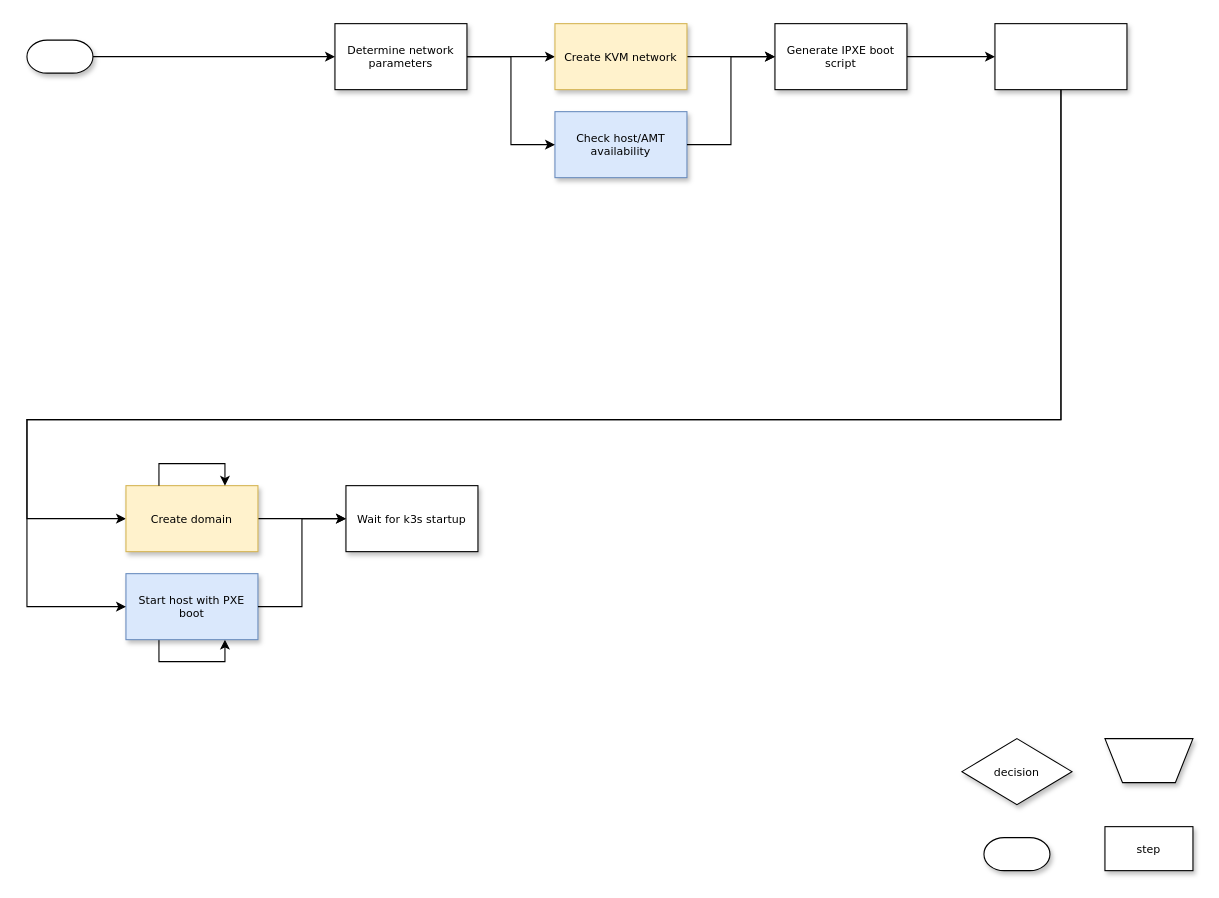
Some shapes in this 1219 by 898 pixel diagram are drawn without their labels. The shapes that lost their labels are listed below. From the top down, each one's centre as x and y in pixels, then its label:
At (x=60, y=58): "Install Host".
At (x=1061, y=57): "Run HTTP PXE server".
At (x=1149, y=761): "sub process".
At (x=1017, y=855): "end".
